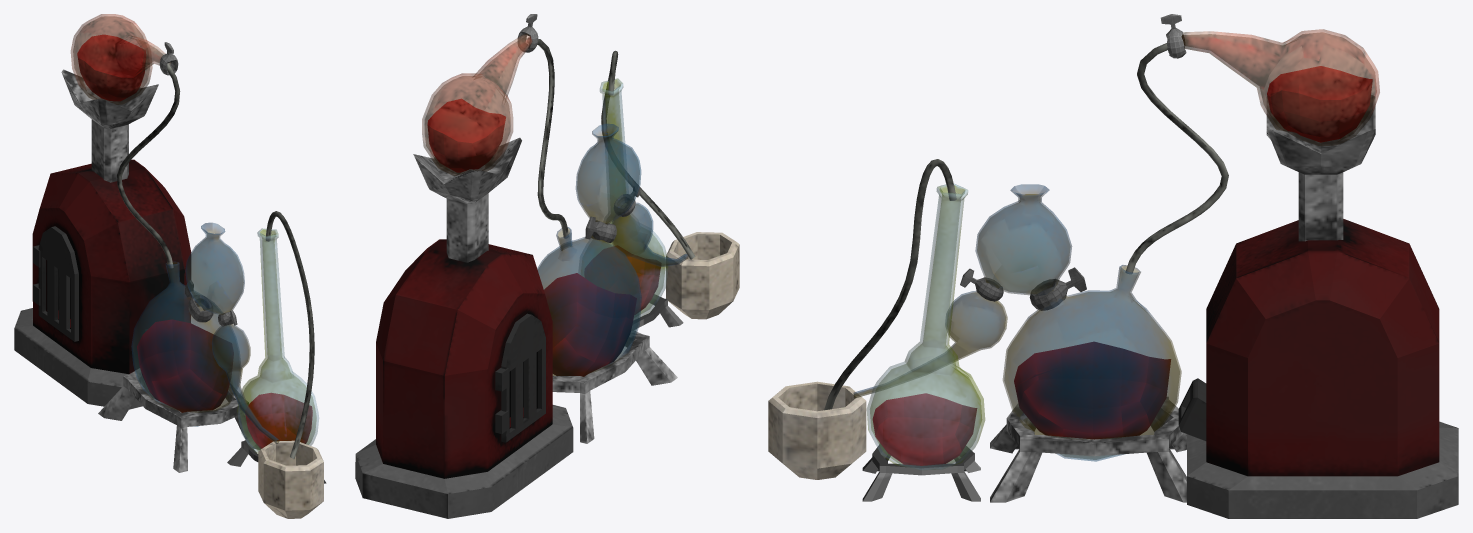
The model's file is Alchemyset.glb.
3 views of the same model, side by side, from view 1: azimuth 30°, elevation 25°; view 2: azimuth 150°, elevation 25°; view 3: azimuth 270°, elevation 25° (orthographic). The views are drawn at different scales.
Parts seen in each view (by area): view 1: Furnace, Glass.002, Glass.003, Liquid.002, Glass.001, Pipe, End, Holder.001, Liquid.001, Liquid.003, Tube.002, Tube.001 (+3 smaller); view 2: Furnace, Glass.002, Glass.001, Liquid.002, Pipe, Glass.003, End, Liquid.001, Holder.001, Liquid.003, Tube.001, Tube.002 (+4 smaller); view 3: Furnace, Glass.002, Glass.003, Glass.001, Liquid.002, End, Holder.001, Pipe, Liquid.001, Liquid.003, Holder.002, Tube.002 (+2 smaller).
Part boxes in pixels (bbox=[...]): Furnace: bbox=[14, 159, 191, 409]; Glass.002: bbox=[131, 222, 279, 443]; Glass.003: bbox=[237, 228, 318, 453]; Liquid.002: bbox=[137, 319, 233, 412]; Glass.001: bbox=[70, 14, 171, 104]; Pipe: bbox=[61, 69, 158, 182]; End: bbox=[258, 440, 323, 518]; Holder.001: bbox=[98, 368, 260, 472]; Liquid.001: bbox=[77, 34, 145, 101]; Liquid.003: bbox=[245, 393, 312, 448]; Tube.002: bbox=[265, 211, 314, 458]; Tube.001: bbox=[117, 63, 180, 267]; Furnace: bbox=[355, 239, 573, 518]; Glass.002: bbox=[537, 123, 688, 376]; Glass.001: bbox=[422, 33, 532, 175]; Liquid.002: bbox=[544, 273, 636, 376]; Pipe: bbox=[413, 137, 521, 262]; Glass.003: bbox=[580, 78, 667, 317]; End: bbox=[666, 232, 739, 319]; Liquid.001: bbox=[427, 98, 505, 172]; Holder.001: bbox=[552, 329, 677, 443]; Liquid.003: bbox=[585, 246, 660, 314]; Tube.001: bbox=[527, 37, 568, 238]; Tube.002: bbox=[601, 50, 695, 259]; Furnace: bbox=[1178, 219, 1458, 518]; Glass.002: bbox=[853, 184, 1181, 461]; Glass.003: bbox=[867, 184, 984, 470]; Glass.001: bbox=[1181, 29, 1379, 145]; Liquid.002: bbox=[1014, 341, 1170, 439]; End: bbox=[768, 381, 866, 479]; Holder.001: bbox=[990, 397, 1186, 502]; Pipe: bbox=[1266, 95, 1375, 241]; Liquid.001: bbox=[1267, 66, 1372, 142]; Liquid.003: bbox=[872, 393, 977, 465]; Holder.002: bbox=[862, 444, 980, 501]; Tube.002: bbox=[824, 159, 956, 410].
Bounding box in the file's own units: 0.5781 × 1.63 × 2.18.
13 materials, 13 textured.
